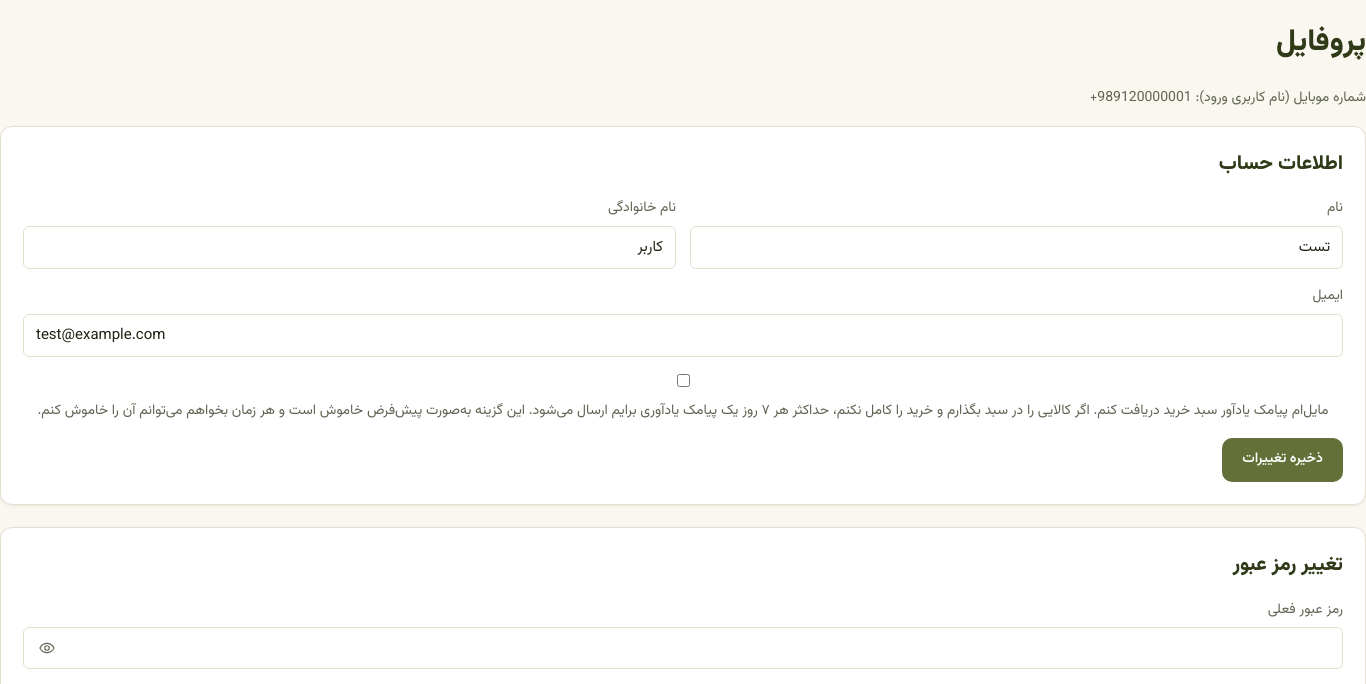
it: profile page marketing consent › saves the opt-in via PATCH /accounts/me/
The width and height of the screenshot is (1366, 684).
Click the checkbox. click: (684, 380)
box: [677,374,690,387]
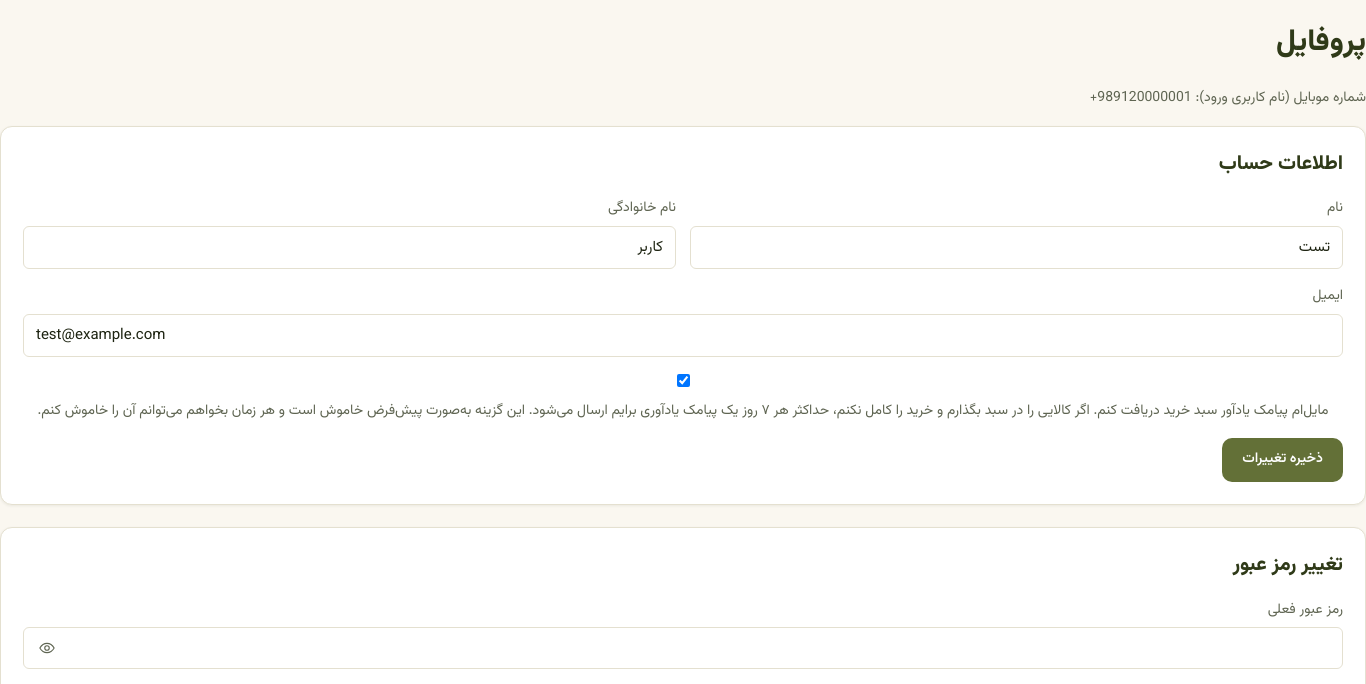
Click the button "ذخیره تغییرات". click: (1283, 460)
box: [1222,438,1343,482]
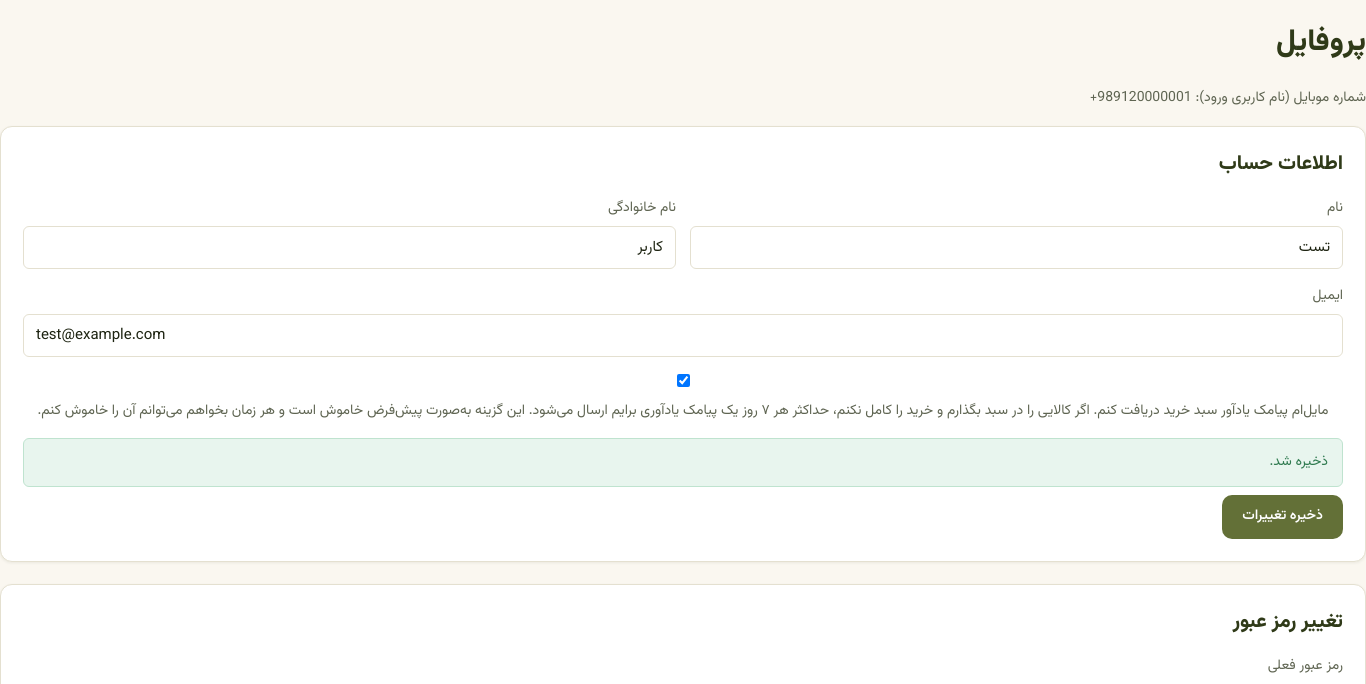
Now the text "ذخیره شد." is shown, box [23,438,1343,487]
